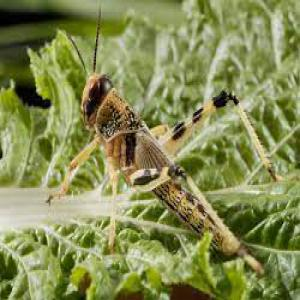locust: (64, 26, 267, 283)
